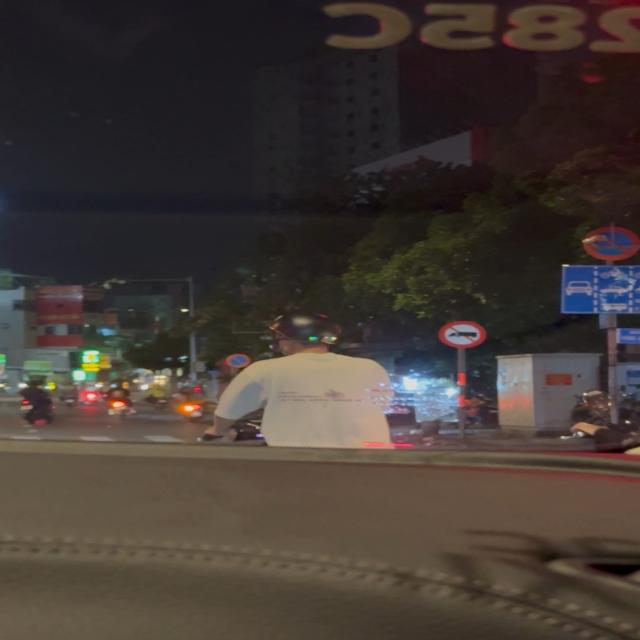Bien bao cam xe so-mi ro-mooc: (434, 319, 488, 350)
